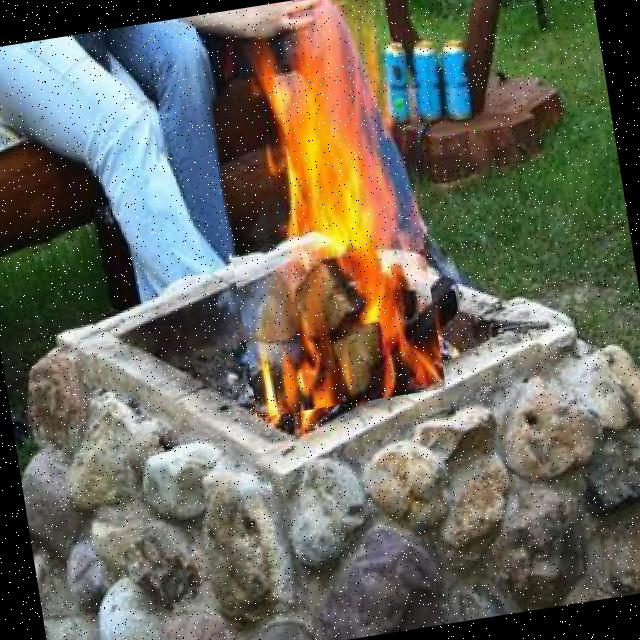fire: (196, 0, 446, 418)
